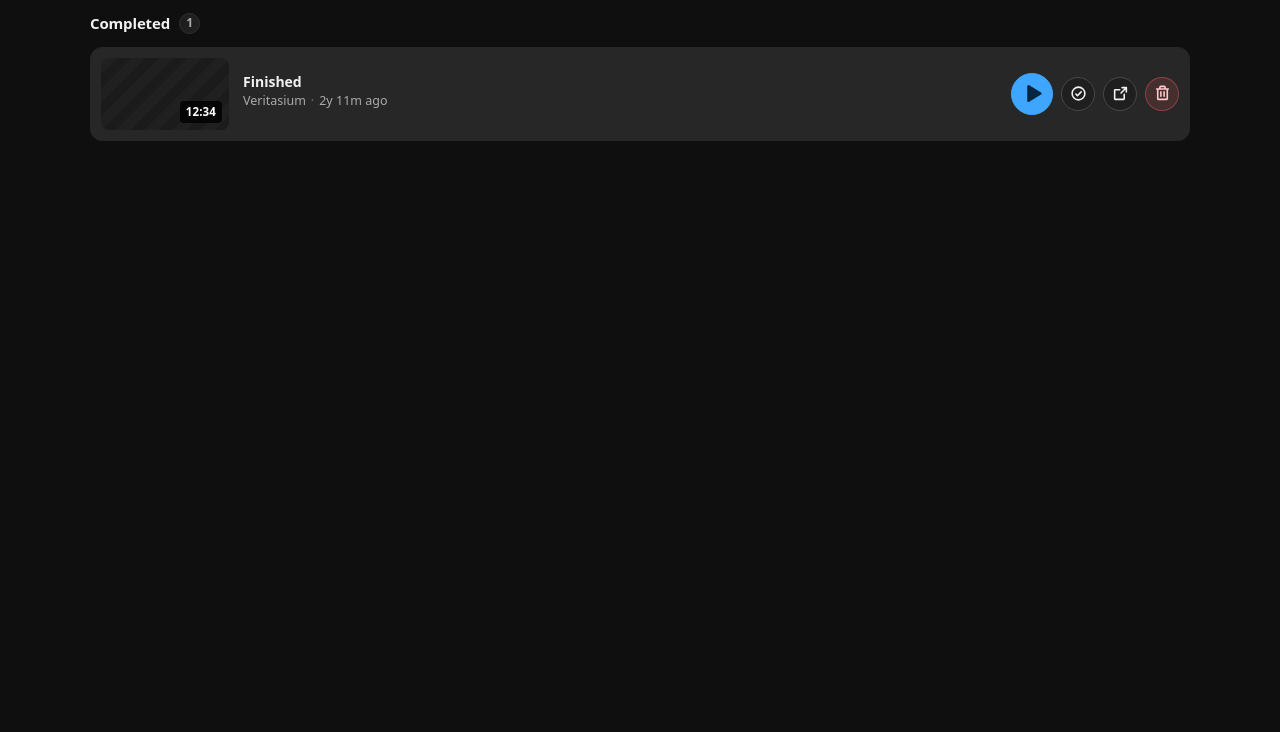
Test case: Downloads row actions › puts the watched state back, and asks nothing, when the backend refuses
Click the button named "Mark as watched" at (1078,94), box [1061,76,1095,110]
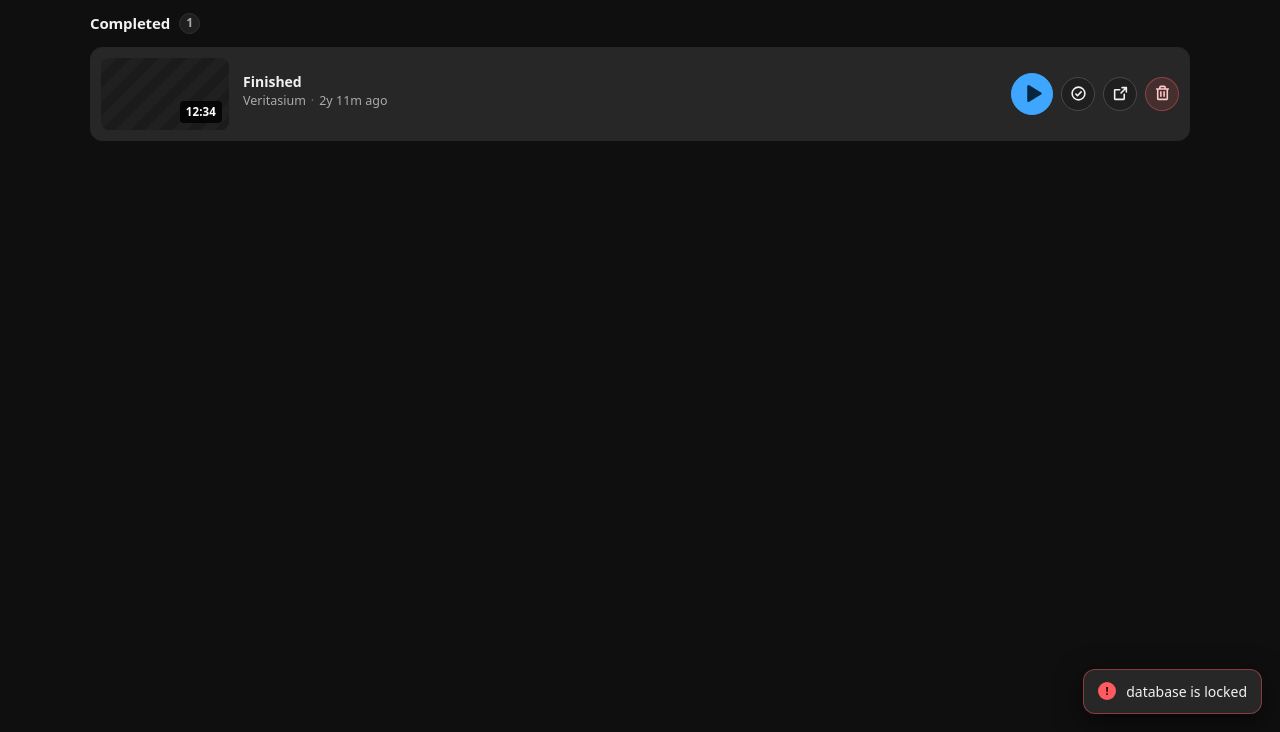
Now the text "database is locked" is shown, box [1126,681,1247,702]
